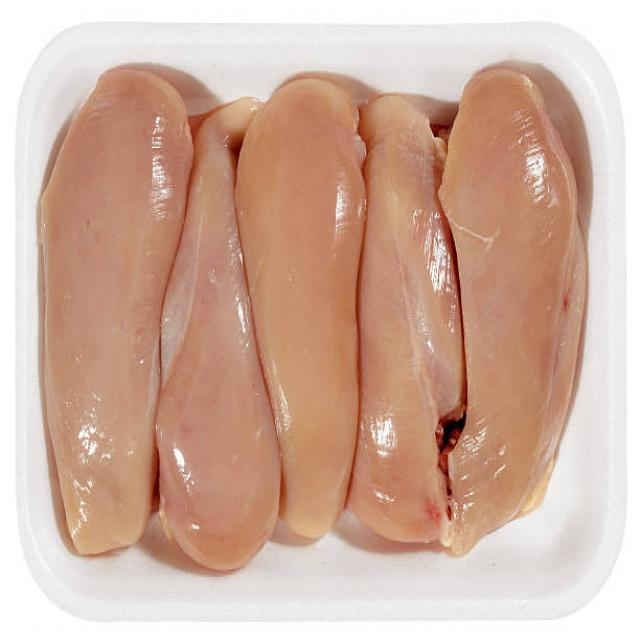Chicken: (454, 82, 594, 559), (32, 72, 151, 549), (264, 74, 362, 550), (150, 141, 255, 557), (364, 119, 448, 573)
